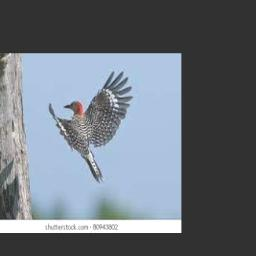Woodpecker: (49, 71, 133, 183)
